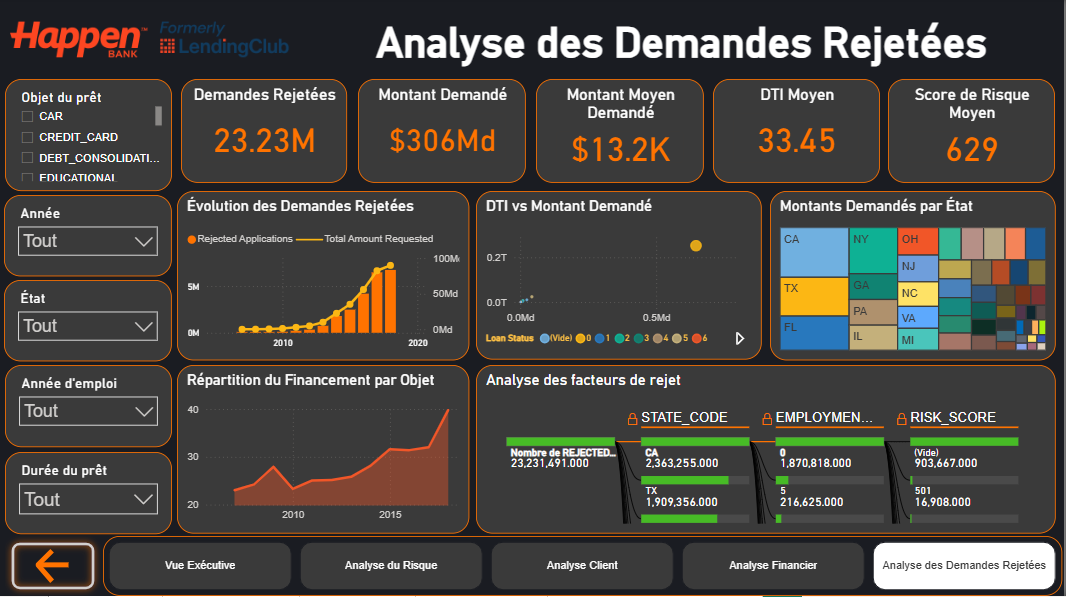

The dashboard page shown, as its layout file describes it:
{"tool":"powerbi","page":{"name":"Analyse des Demandes Rejetées","canvas":[1280,720],"ordinal":4},"visuals":[{"type":"image","box":[12,8.4,335.9,83.1],"z":0},{"type":"textbox","box":[361.2,19.3,918.7,69.8],"z":1000},{"type":"cardVisual","title":"Demandes Rejetées","fields":{"Data":["Count(FACT_REJECTED_LOANS.REJECTED_LOAN_KEY)"]},"box":[217.5,97.7,199.6,125.2],"z":2000},{"type":"cardVisual","title":"Montant Demandé","fields":{"Data":["Sum(FACT_REJECTED_LOANS.AMOUNT_REQUESTED)"]},"box":[430.8,97.7,202.3,125.2],"z":3000},{"type":"cardVisual","title":"Montant Moyen Demandé","fields":{"Data":["Avg(FACT_REJECTED_LOANS.AMOUNT_REQUESTED)"]},"box":[645.5,97.7,202.3,125.2],"z":4000},{"type":"cardVisual","title":"DTI Moyen","fields":{"Data":["Avg(FACT_REJECTED_LOANS.DEBT_TO_INCOME_RATIO)"]},"box":[858.8,97.7,200.9,125.2],"z":5000},{"type":"cardVisual","title":"Score de Risque Moyen","fields":{"Data":["Avg(FACT_REJECTED_LOANS.RISK_SCORE)"]},"box":[1069.4,97.7,200.9,125.2],"z":8000},{"type":"slicer","fields":{"Values":["DIM_DATE.YEAR"]},"box":[5,236.7,201.7,98.3],"z":9000},{"type":"slicer","fields":{"Values":["DIM_STATE.STATE_CODE"]},"box":[5,340,201.7,98.3],"z":10000},{"type":"slicer","fields":{"Values":["DIM_EMPLOYMENT.EMPLOYMENT_YEARS"]},"box":[6,441.9,201.1,98.7],"z":11000},{"type":"slicer","fields":{"Values":["FACT_ACCEPTED_LOANS.TERM_MONTHS"]},"box":[6,546.6,201.1,98.7],"z":12000},{"type":"lineStackedColumnComboChart","title":"Évolution des Demandes Rejetées","fields":{"Category":["DIM_DATE.YEAR"],"Y":["Count(FACT_REJECTED_LOANS.REJECTED_LOAN_KEY)"],"Y2":["Sum(FACT_REJECTED_LOANS.AMOUNT_REQUESTED)"]},"box":[213.3,232.6,352.3,203.7],"z":13000},{"type":"scatterChart","title":"DTI vs Montant Demandé","fields":{"Series":["DIM_EMPLOYMENT.EMPLOYMENT_YEARS"],"Size":["Sum(FACT_REJECTED_LOANS.RISK_SCORE)"],"X":["Sum(FACT_REJECTED_LOANS.DEBT_TO_INCOME_RATIO)"],"Y":["Sum(FACT_REJECTED_LOANS.AMOUNT_REQUESTED)"]},"box":[573.1,232.4,344.3,203.5],"z":14000},{"type":"areaChart","title":"Répartition du Financement par Objet","fields":{"Category":["DIM_DATE.YEAR"],"Y":["Avg(FACT_REJECTED_LOANS.DEBT_TO_INCOME_RATIO)"]},"box":[213.6,442.1,352.5,203.1],"z":16000},{"type":"treemap","title":"Montants Demandés par État","fields":{"Group":["DIM_STATE.STATE_CODE"],"Values":["Sum(FACT_REJECTED_LOANS.AMOUNT_REQUESTED)"]},"box":[927.1,232.9,344.1,203.7],"z":17000},{"type":"slicer","fields":{"Values":["DIM_PURPOSE.PURPOSE"]},"box":[6,97.5,201.1,134.8],"z":20000},{"type":"pageNavigator","box":[124,647.8,1155.5,72],"z":20001},{"type":"actionButton","box":[6,647.8,115.5,72],"z":20002},{"type":"decompositionTreeVisual","title":"Analyse des facteurs de rejet ","fields":{"Analyze":["Count(FACT_REJECTED_LOANS.REJECTED_LOAN_KEY)"],"ExplainBy":["DIM_STATE.STATE_CODE","DIM_EMPLOYMENT.EMPLOYMENT_YEARS","FACT_REJECTED_LOANS.RISK_SCORE"]},"box":[573.5,442.1,697.5,203.1],"z":20003}]}

Visuals, with their boxes in screenshot pixels (x1, y1, x2, y2), scaled from the page's 1280x720 canvas onto the 1066x597 screenshot:
image: bbox=(10, 7, 290, 76)
textbox: bbox=(301, 16, 1065, 74)
"Demandes Rejetées" cardVisual: bbox=(181, 81, 347, 185)
"Montant Demandé" cardVisual: bbox=(359, 81, 527, 185)
"Montant Moyen Demandé" cardVisual: bbox=(538, 81, 706, 185)
"DTI Moyen" cardVisual: bbox=(715, 81, 883, 185)
"Score de Risque Moyen" cardVisual: bbox=(891, 81, 1058, 185)
slicer - DIM_DATE.YEAR: bbox=(4, 196, 172, 278)
slicer - DIM_STATE.STATE_CODE: bbox=(4, 282, 172, 363)
slicer - DIM_EMPLOYMENT.EMPLOYMENT_YEARS: bbox=(5, 366, 172, 448)
slicer - FACT_ACCEPTED_LOANS.TERM_MONTHS: bbox=(5, 453, 172, 535)
"Évolution des Demandes Rejetées" lineStackedColumnComboChart: bbox=(178, 193, 471, 362)
"DTI vs Montant Demandé" scatterChart: bbox=(477, 193, 764, 361)
"Répartition du Financement par Objet" areaChart: bbox=(178, 367, 471, 535)
"Montants Demandés par État" treemap: bbox=(772, 193, 1059, 362)
slicer - DIM_PURPOSE.PURPOSE: bbox=(5, 81, 172, 193)
pageNavigator: bbox=(103, 537, 1065, 596)
actionButton: bbox=(5, 537, 101, 596)
"Analyse des facteurs de rejet " decompositionTreeVisual: bbox=(478, 367, 1059, 535)
